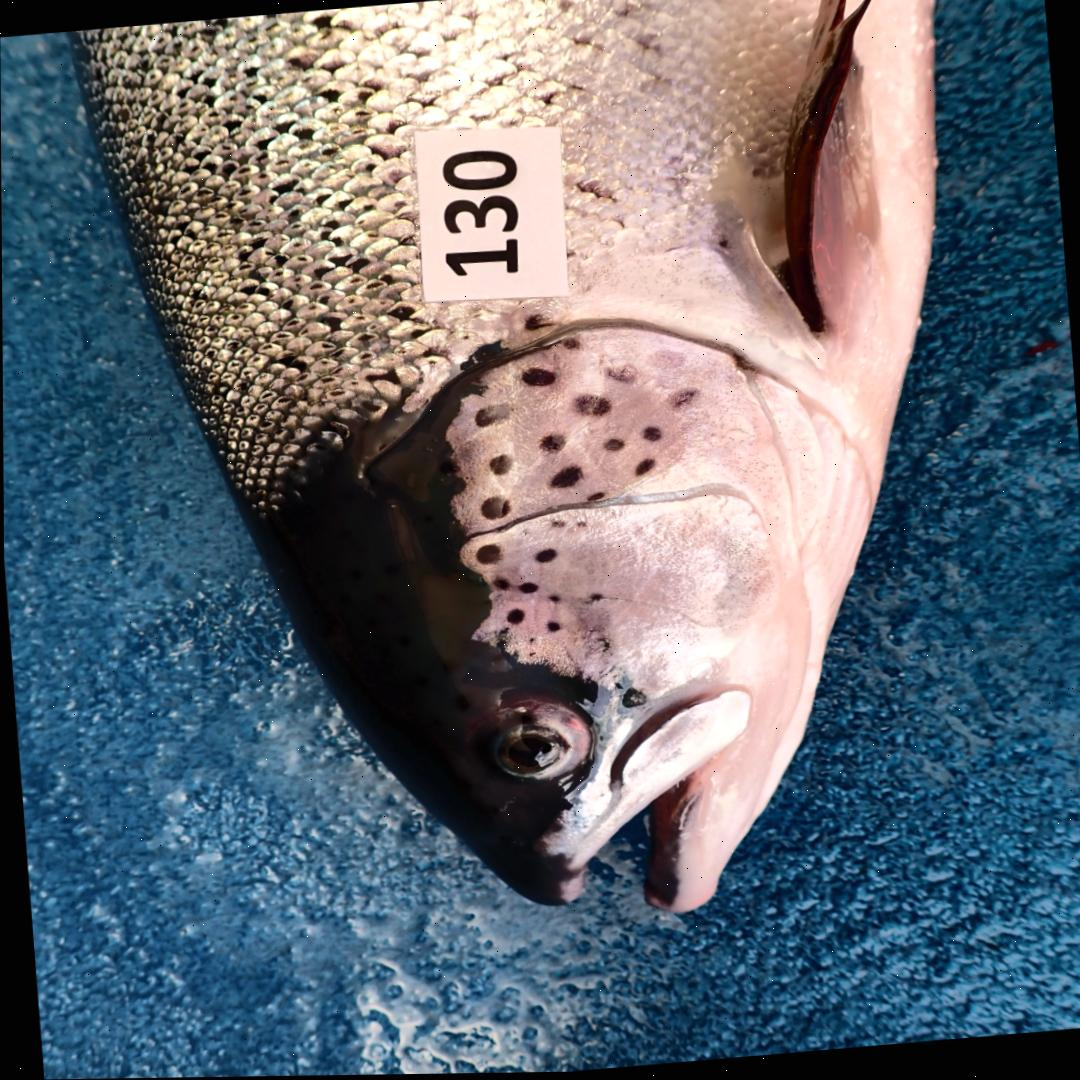spot: (473, 404, 511, 428), (574, 395, 610, 418), (548, 466, 580, 489), (480, 497, 509, 520), (522, 368, 555, 388), (668, 391, 698, 411), (488, 454, 512, 477), (475, 545, 501, 566), (607, 367, 637, 383), (539, 435, 563, 453), (590, 637, 611, 657), (533, 549, 557, 564), (641, 427, 662, 443), (635, 460, 655, 476), (515, 582, 538, 595), (604, 439, 624, 452), (506, 610, 523, 625), (491, 578, 509, 591), (564, 338, 580, 352), (544, 621, 559, 633), (495, 625, 510, 637), (587, 493, 605, 502), (586, 594, 604, 603), (548, 520, 563, 529), (548, 596, 560, 604), (575, 522, 587, 530), (528, 638, 537, 645)
